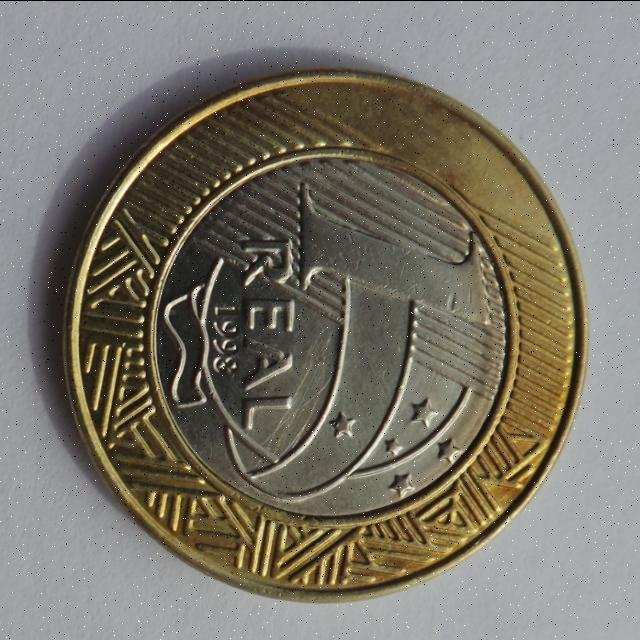1 real: (55, 76, 589, 588)
